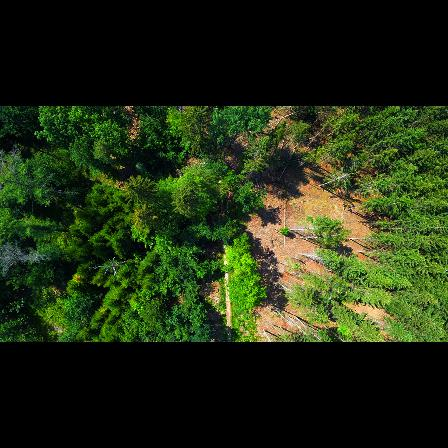Dead: (0, 245, 52, 273), (86, 255, 129, 276)
